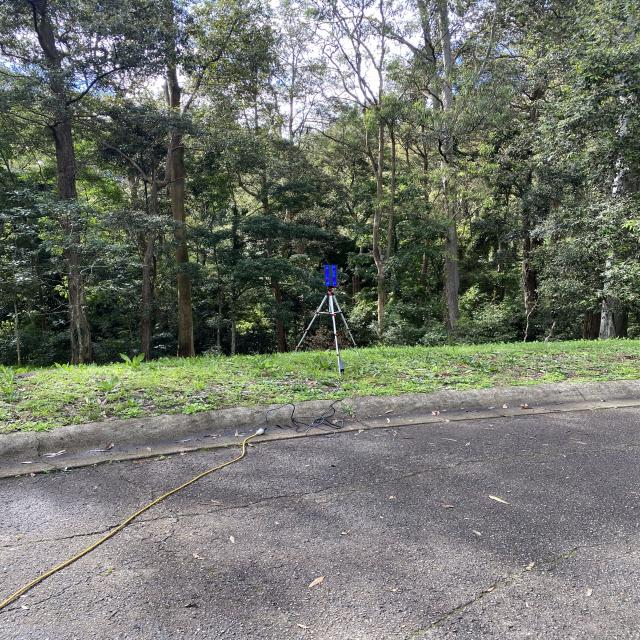matrix: (320, 260, 347, 292)
